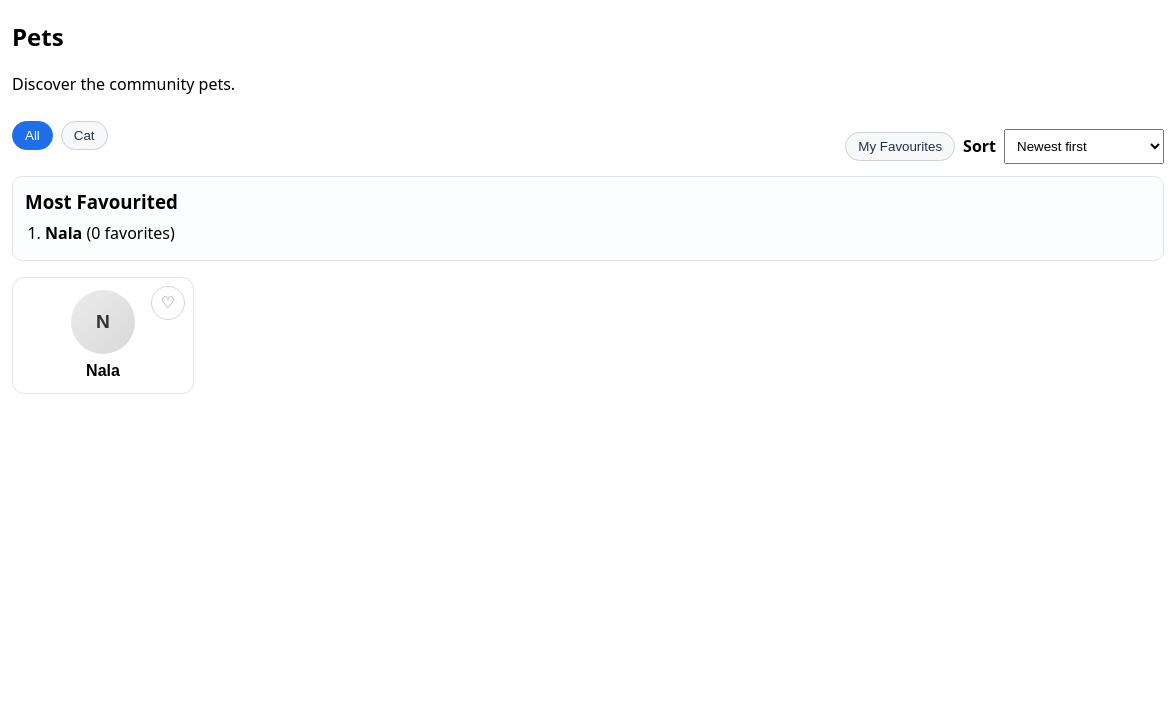
Test: Home page › falls back to clicked pet when detail fetch fails
Click the button "N Nala". click: [103, 335]
box: [25,290,181,380]
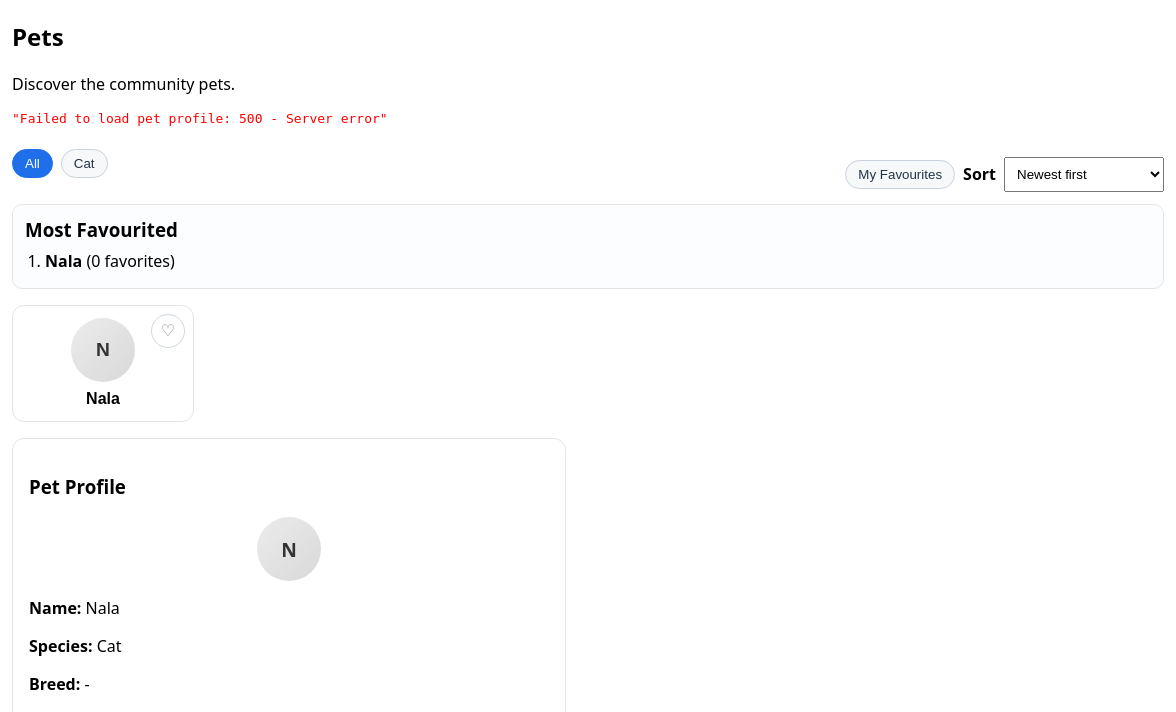
Expected: the text "\"Failed to load pet profile: 500 - Server error\"" is shown, [12,111,388,126]
Expected: the text "Pet Profile" is shown, [29,474,126,498]
Expected: the text "Nala" is shown, [86,597,120,619]
